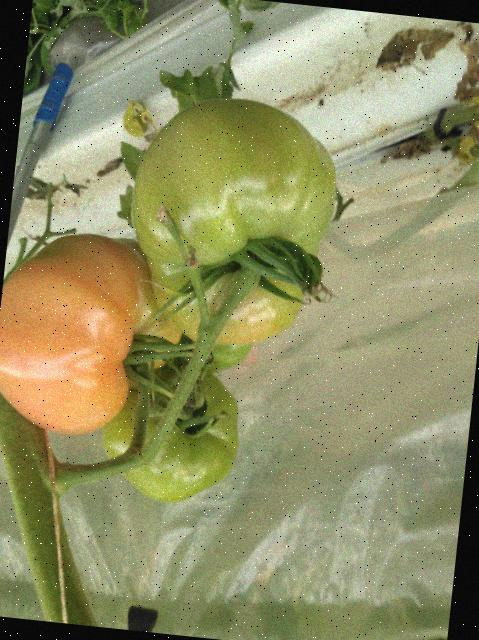b_green: (117, 88, 345, 356), (94, 355, 245, 509), (169, 333, 253, 377)
b_half_ripened: (0, 225, 192, 446)
